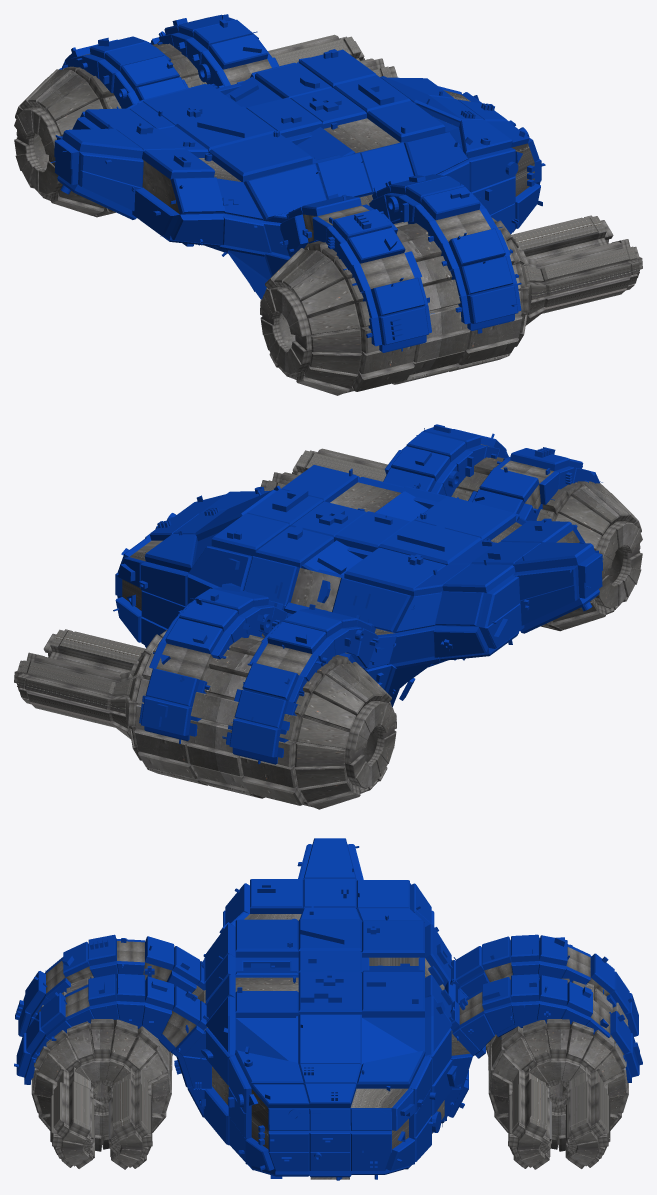
The model's file is Small_Spacecraft.fbx.
3 renders of one model, top to bottom at view 1: azimuth 30°, elevation 25°; view 2: azimuth 150°, elevation 25°; view 3: azimuth 270°, elevation 25°, orthographic. The views are drawn at different scales.
Visible parts, largest first — view 1: Body_Base, Motors_Base, Body_Stock, Body, Motors; view 2: Body_Base, Motors_Base, Body_Stock, Body, Motors; view 3: Body_Base, Motors_Base, Body, Body_Stock.
Part boxes in pixels (<box>): Body_Base: <box>54,14,541,352</box>; Motors_Base: <box>14,34,642,395</box>; Body_Stock: <box>50,14,545,351</box>; Body: <box>81,41,534,288</box>; Motors: <box>33,133,295,348</box>; Body_Base: <box>115,427,602,764</box>; Motors_Base: <box>14,448,642,809</box>; Body_Stock: <box>113,424,603,763</box>; Body: <box>122,444,579,680</box>; Motors: <box>361,547,623,762</box>; Body_Base: <box>16,838,639,1177</box>; Motors_Base: <box>31,976,628,1169</box>; Body: <box>46,914,624,1149</box>; Body_Stock: <box>14,846,642,1180</box>.
Bounding box in the file's own units: 516 × 215 × 664.
6 materials, 5 textured.
